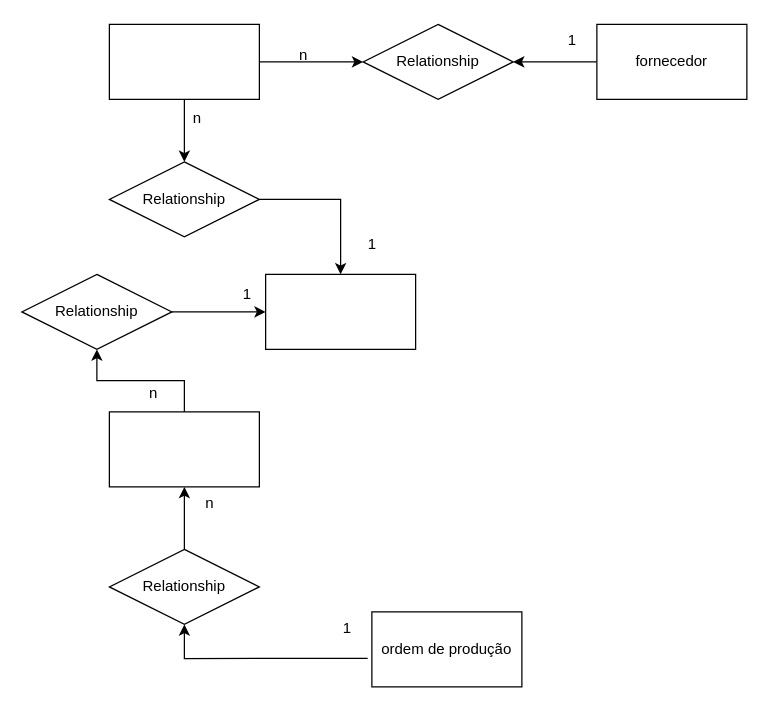
Image size: 769x709. Some labels were removed from this diagram. The shapes that lost their labels are listed below. From the top down, each one's centre as x and y in pixels, then its label:
the point at 183,61: materia prima
the point at 340,311: receita
the point at 183,449: produto final
